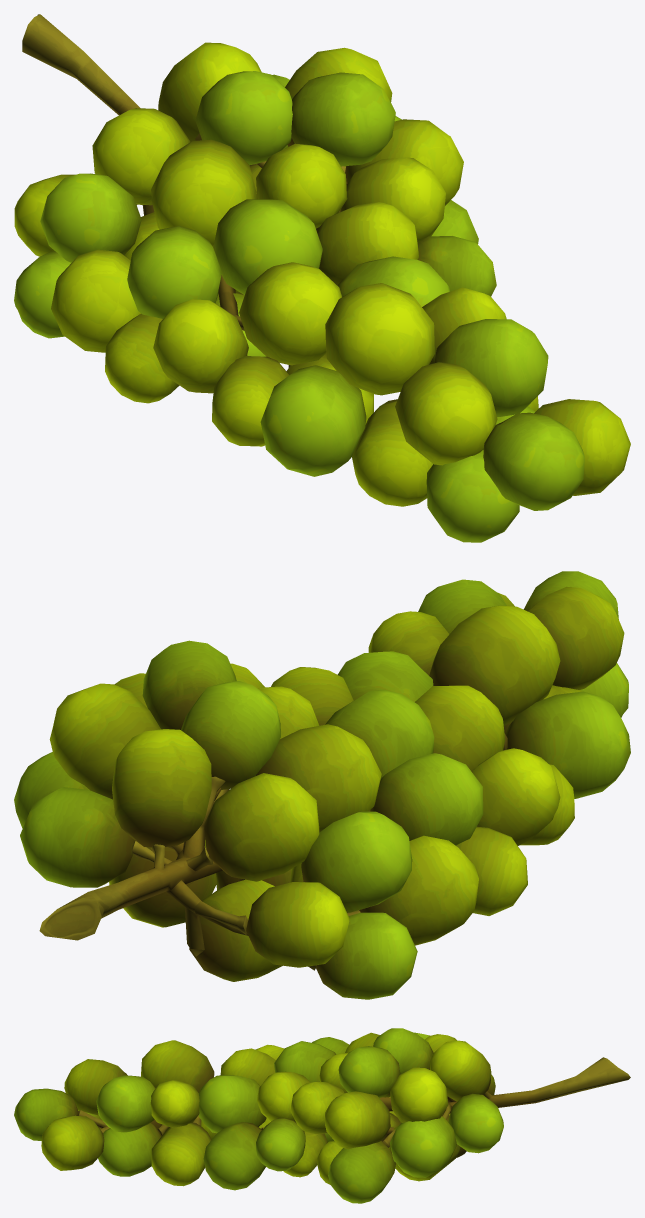
The model's file is SM_GrapesGreen.fbx.
The picture shows the model from 3 angles, top to bottom: view 1: azimuth 30°, elevation 25°; view 2: azimuth 150°, elevation 25°; view 3: azimuth 270°, elevation 25°; orthographic projection. The views are drawn at different scales.
Parts seen in each view (by area): view 1: SM_GrapesGreen; view 2: SM_GrapesGreen; view 3: SM_GrapesGreen.
Boxes of the visible parts, bbox=[...] form: SM_GrapesGreen: bbox=[14, 14, 630, 542]; SM_GrapesGreen: bbox=[14, 571, 630, 999]; SM_GrapesGreen: bbox=[14, 1028, 630, 1203].
Bounding box in the file's own units: 17.59 × 10.31 × 40.62.
